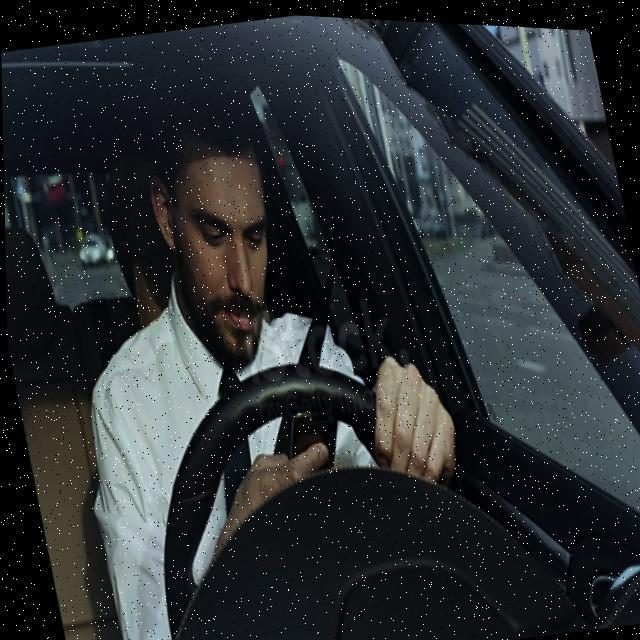PhoneCall: (276, 400, 348, 478)
